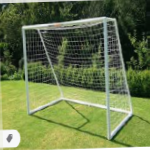goals: (21, 15, 134, 140)
